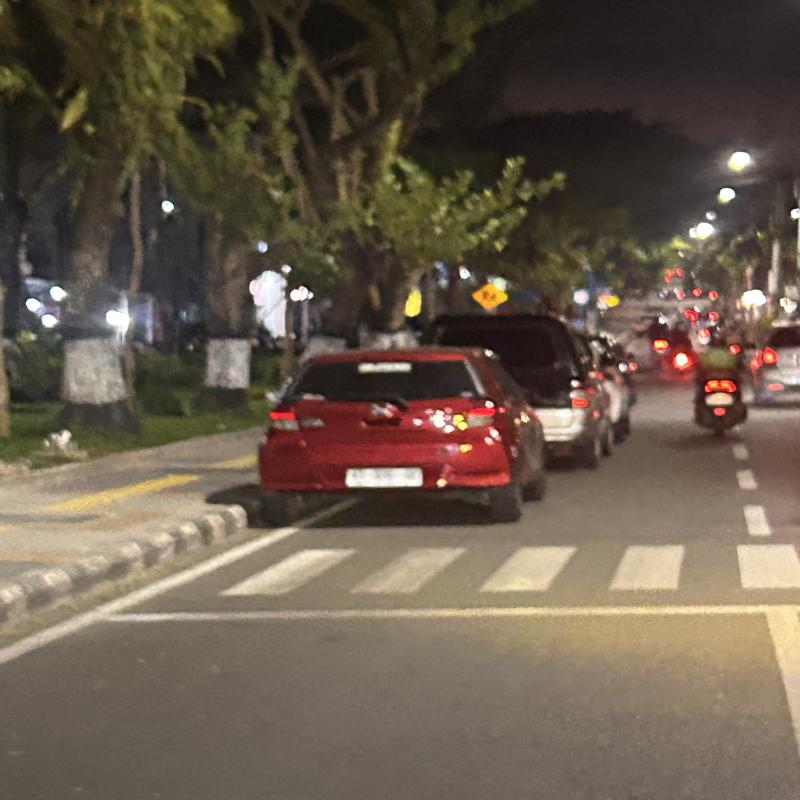license plate on a car: (348, 464, 427, 487)
